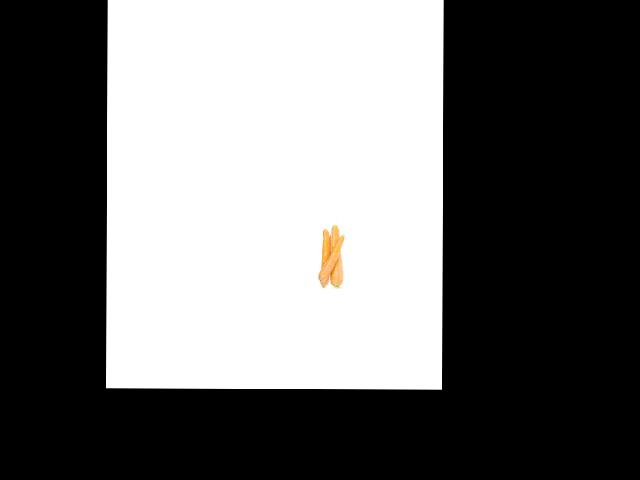carrot: (318, 227, 332, 292)
